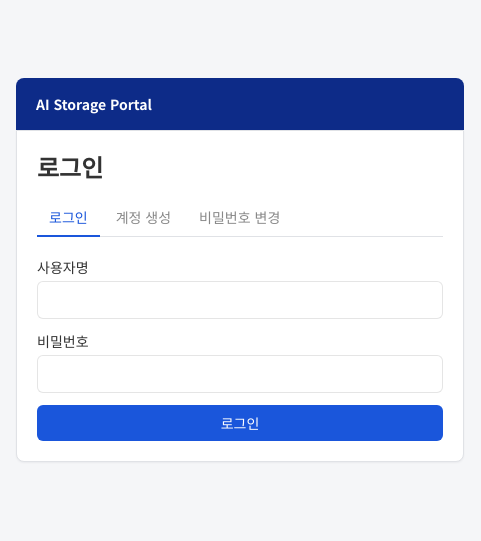
Scenario: 타이틀은 「로그인」이고 탭으로 계정 생성·비밀번호 변경을 오간다
Expected: the heading "로그인" is shown, [37, 149, 103, 184]
Click the tab "계정 생성".
click(143, 218)  # box [104, 199, 183, 237]
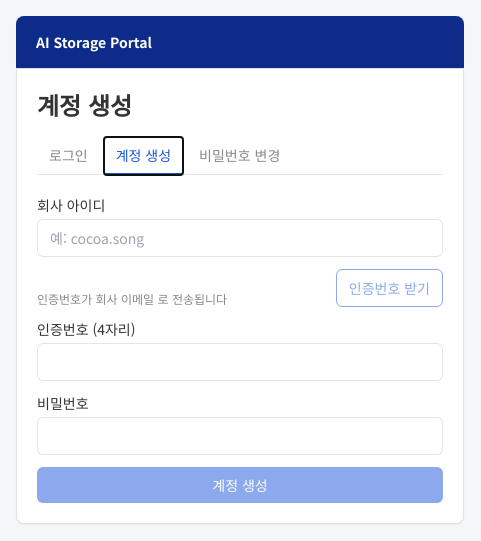
Now the heading "계정 생성" is shown, box [37, 87, 132, 122]
Now the field labelled "회사 아이디" is shown, box [37, 219, 443, 257]
Click the tab "비밀번호 변경".
click(240, 156)  # box [187, 137, 292, 175]
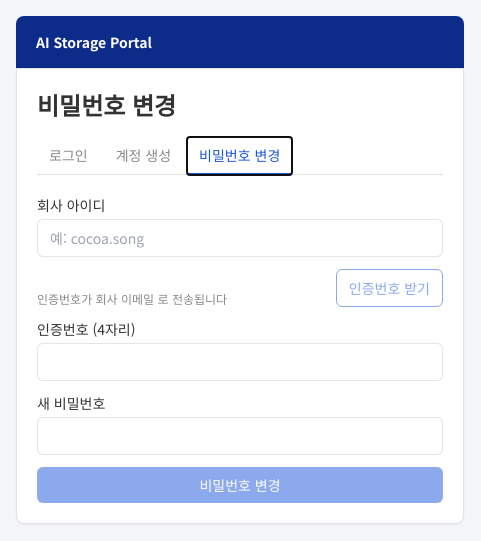
Expected: the password field labelled "새 비밀번호" is shown, [37, 417, 443, 455]
Now the heading "비밀번호 변경" is shown, box [37, 87, 176, 122]
